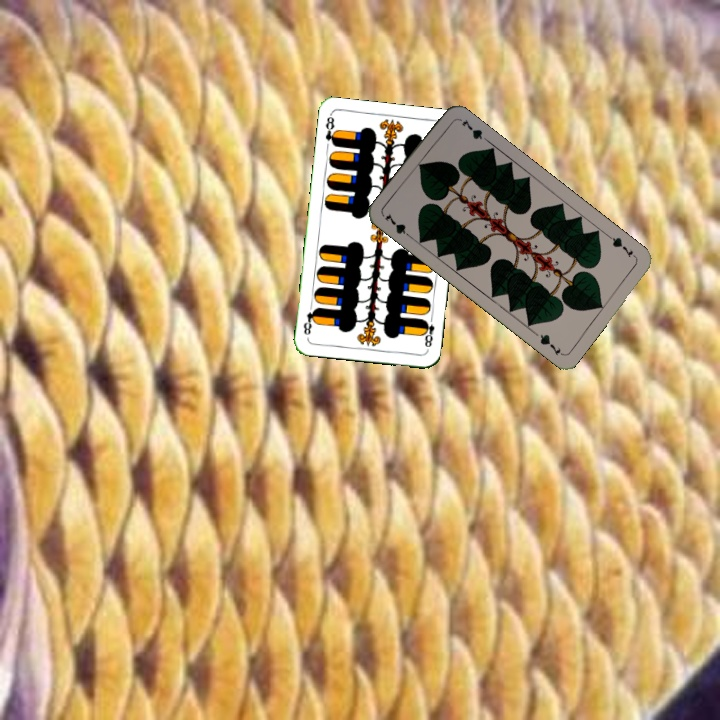E8: (419, 312, 437, 352), (321, 111, 339, 149)
G7: (381, 209, 415, 241), (604, 231, 639, 261)
